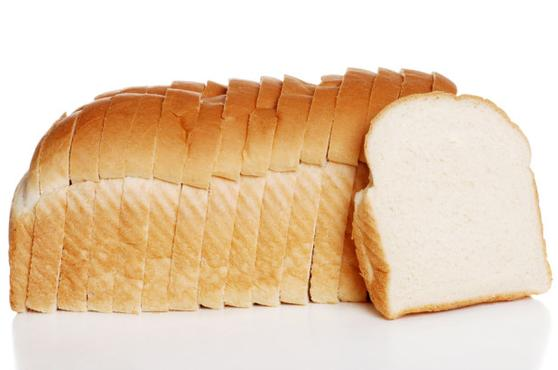white_bread: (9, 87, 390, 312)
